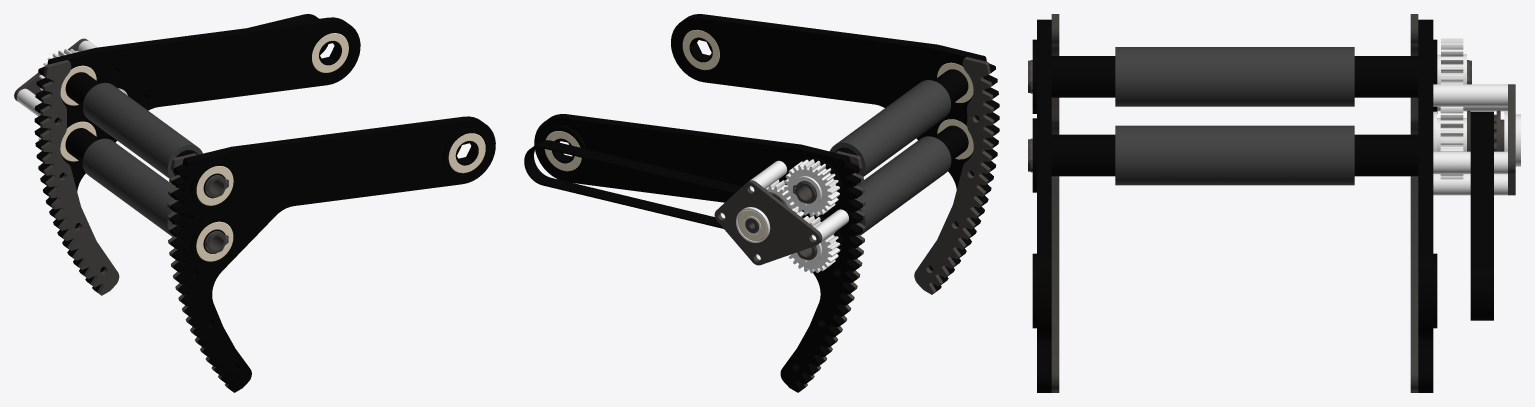
3 views of the same model, side by side, from view 1: azimuth 30°, elevation 25°; view 2: azimuth 150°, elevation 25°; view 3: azimuth 270°, elevation 25° (orthographic). The views are drawn at different scales.
Visible parts, largest first — view 1: Hood:1, Hex v1 (6):1, Hex v1 (8):1, Hex v1 (7):1, 1InchRoller (1) (1) (3):1, Hex v1 (4):1, 1InchRoller (1) (1) (7):1, 1InchRoller (1) (1):1, 1InchRoller (1) (1) (1):1, 1InchRoller (1) (1) (4):1, 1InchRoller (1) (1) (5):1, 1InchRoller (1) (1) (6):1 (+3 smaller); view 2: Hood:1, 24t Steel Spur Gear WCP-0736 v2 (1):1, Hex v1 (4):1, 1InchRoller (1) (1):1, Hex v1 (6):1, 1InchRoller (1) (1) (2):1, 1InchRoller (1) (1) (4):1, 1InchRoller (1) (1) (5):1, 1InchRoller (1) (1) (6):1, 1InchRoller (1) (1) (7):1, 1InchRoller (1) (1) (3):1, 24t Steel Spur Gear WCP-0736 v2:1 (+4 smaller); view 3: Hood:1, 1InchRoller (1) (1) (2):1, 1InchRoller (1) (1) (3):1, 1InchRoller (1) (1) (1):1, 1InchRoller (1) (1) (5):1, 1InchRoller (1) (1) (7):1, 1InchRoller (1) (1):1, 1InchRoller (1) (1) (6):1, 1InchRoller (1) (1) (4):1, 24t Steel Spur Gear WCP-0736 v2 (2):1, 24t Steel Spur Gear WCP-0736 v2 (1):1, Pulley_HTD_5mm-15.0Tx11mm (1):1 (+1 smaller).
Boxes of the visible parts, x1=… form: Hood:1: x1=14, y1=14, x2=495, y2=392; Hex v1 (6):1: x1=443, y1=127, x2=490, y2=177; Hex v1 (8):1: x1=190, y1=216, x2=237, y2=266; Hex v1 (7):1: x1=191, y1=160, x2=238, y2=210; 1InchRoller (1) (1) (3):1: x1=146, y1=129, x2=202, y2=178; Hex v1 (4):1: x1=310, y1=31, x2=351, y2=75; 1InchRoller (1) (1) (7):1: x1=125, y1=169, x2=175, y2=220; 1InchRoller (1) (1):1: x1=82, y1=82, x2=132, y2=133; 1InchRoller (1) (1) (1):1: x1=82, y1=138, x2=132, y2=189; 1InchRoller (1) (1) (4):1: x1=104, y1=98, x2=154, y2=149; 1InchRoller (1) (1) (5):1: x1=104, y1=154, x2=153, y2=205; 1InchRoller (1) (1) (6):1: x1=125, y1=114, x2=175, y2=164; Hood:1: x1=524, y1=14, x2=999, y2=392; 24t Steel Spur Gear WCP-0736 v2 (1):1: x1=784, y1=159, x2=839, y2=216; Hex v1 (4):1: x1=540, y1=125, x2=587, y2=175; 1InchRoller (1) (1):1: x1=830, y1=127, x2=886, y2=176; Hex v1 (6):1: x1=680, y1=28, x2=721, y2=72; 1InchRoller (1) (1) (2):1: x1=900, y1=136, x2=951, y2=187; 1InchRoller (1) (1) (4):1: x1=857, y1=111, x2=908, y2=162; 1InchRoller (1) (1) (5):1: x1=858, y1=167, x2=908, y2=219; 1InchRoller (1) (1) (6):1: x1=879, y1=95, x2=929, y2=146; 1InchRoller (1) (1) (7):1: x1=879, y1=152, x2=929, y2=202; 1InchRoller (1) (1) (3):1: x1=900, y1=80, x2=950, y2=131; 24t Steel Spur Gear WCP-0736 v2:1: x1=788, y1=216, x2=840, y2=273; Hood:1: x1=1028, y1=14, x2=1515, y2=392; 1InchRoller (1) (1) (2):1: x1=1115, y1=125, x2=1175, y2=185; 1InchRoller (1) (1) (3):1: x1=1115, y1=47, x2=1175, y2=106; 1InchRoller (1) (1) (1):1: x1=1295, y1=125, x2=1354, y2=185; 1InchRoller (1) (1) (5):1: x1=1235, y1=125, x2=1294, y2=185; 1InchRoller (1) (1) (7):1: x1=1175, y1=125, x2=1234, y2=185; 1InchRoller (1) (1):1: x1=1295, y1=47, x2=1354, y2=106; 1InchRoller (1) (1) (6):1: x1=1175, y1=47, x2=1234, y2=106; 1InchRoller (1) (1) (4):1: x1=1235, y1=47, x2=1294, y2=106; 24t Steel Spur Gear WCP-0736 v2 (2):1: x1=1437, y1=106, x2=1466, y2=179; 24t Steel Spur Gear WCP-0736 v2 (1):1: x1=1437, y1=38, x2=1466, y2=84; Pulley_HTD_5mm-15.0Tx11mm (1):1: x1=1467, y1=110, x2=1504, y2=151.
Size of the model in its own units: 0.2216 by 0.1597 by 0.2093.
